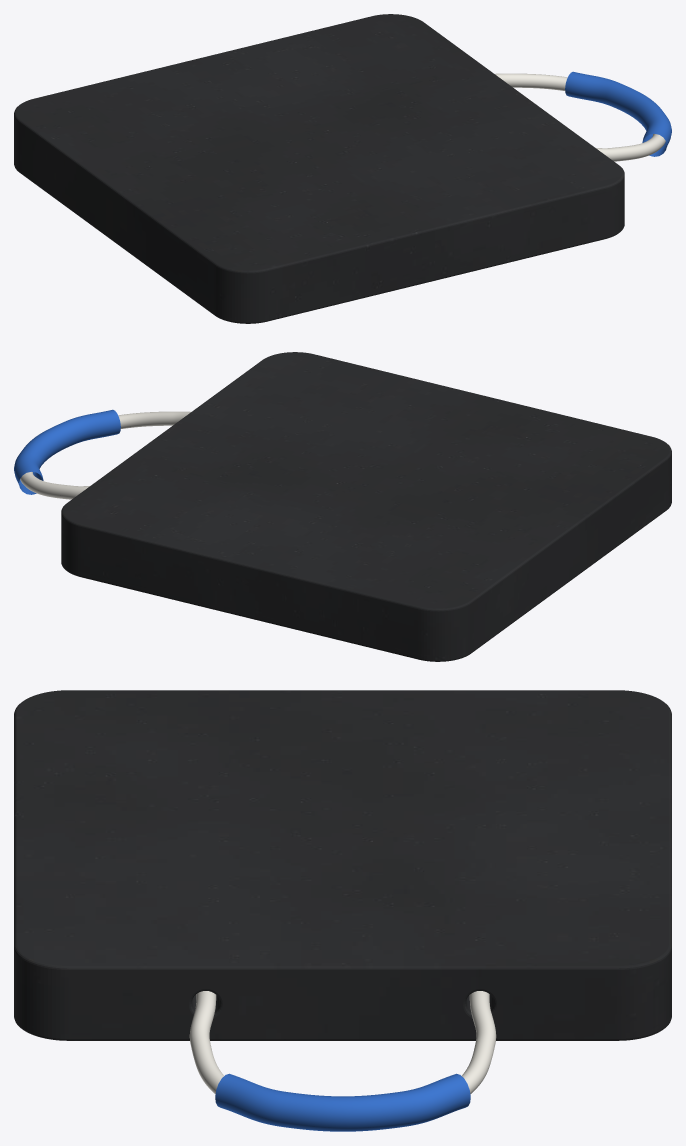
The picture shows the model from 3 angles, top to bottom: view 1: azimuth 30°, elevation 25°; view 2: azimuth 150°, elevation 25°; view 3: azimuth 270°, elevation 25°; orthographic projection. The views are drawn at different scales.
Parts seen in each view (by area): view 1: plate, sleeve, rope; view 2: plate, sleeve, rope; view 3: plate, sleeve, rope.
Part boxes in pixels (bbox=[...]): plate: bbox=[14, 14, 624, 323]; sleeve: bbox=[565, 71, 671, 156]; rope: bbox=[495, 73, 665, 161]; plate: bbox=[61, 352, 671, 661]; sleeve: bbox=[14, 409, 120, 494]; rope: bbox=[20, 411, 190, 499]; plate: bbox=[14, 690, 671, 1040]; sleeve: bbox=[215, 1073, 470, 1131]; rope: bbox=[189, 991, 496, 1094].
Bounding box in the file's own units: 0.4038 × 0.0409 × 0.3048.
Materials: 3 (1 with a texture image).
